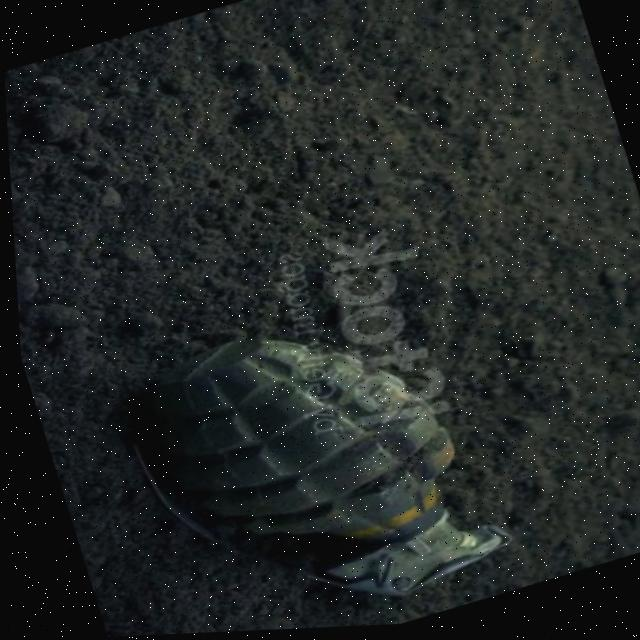grenade: (78, 256, 549, 638)
